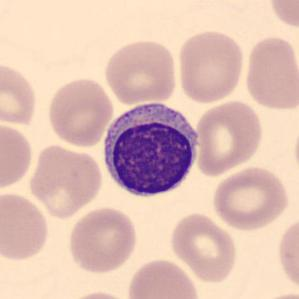Lymphocyte: (98, 96, 203, 203)
RBC: (26, 142, 104, 219), (193, 98, 264, 177), (209, 164, 291, 232), (175, 28, 247, 105), (102, 37, 179, 106), (168, 210, 239, 284), (66, 204, 140, 275), (45, 76, 115, 148), (242, 33, 298, 113), (0, 190, 50, 262), (126, 257, 201, 299), (0, 60, 40, 127), (0, 120, 35, 192), (274, 212, 299, 294), (265, 0, 299, 32), (62, 289, 134, 299), (291, 117, 299, 186)
